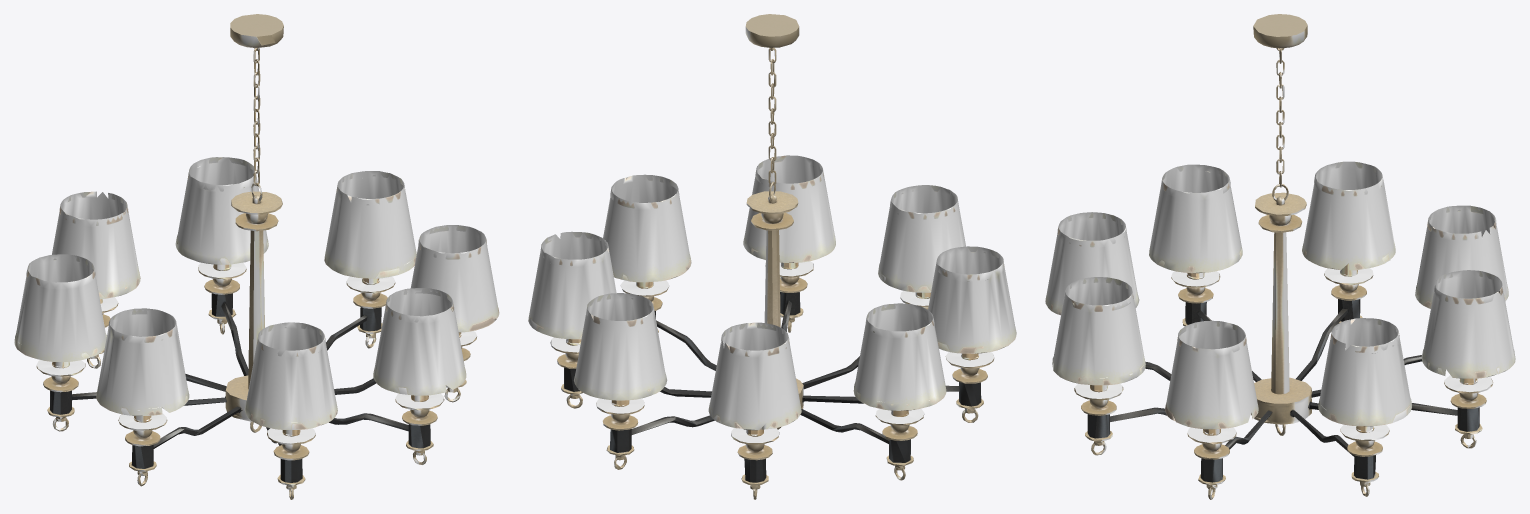
The model's file is raw_model.obj.
3 renders of one model, left to right at view 1: azimuth 30°, elevation 25°; view 2: azimuth 150°, elevation 25°; view 3: azimuth 270°, elevation 25°, orthographic.
Visible parts, largest first — view 1: glass_001, solid_001, solid_002; view 2: glass_001, solid_001, solid_002; view 3: glass_001, solid_001, solid_002.
Boxes of the visible parts, x1,y1,x2,y2 form: glass_001: (14,157,499,429); solid_001: (36,14,477,499); solid_002: (50,293,430,482); glass_001: (528,155,1016,430); solid_001: (550,14,994,499); solid_002: (564,292,981,482); glass_001: (1045,161,1515,429); solid_001: (1074,14,1493,499); solid_002: (1087,299,1479,482).
Bounding box in the file's own units: 0.846 × 0.8124 × 0.8454.
Materials: 1 (1 with a texture image).
